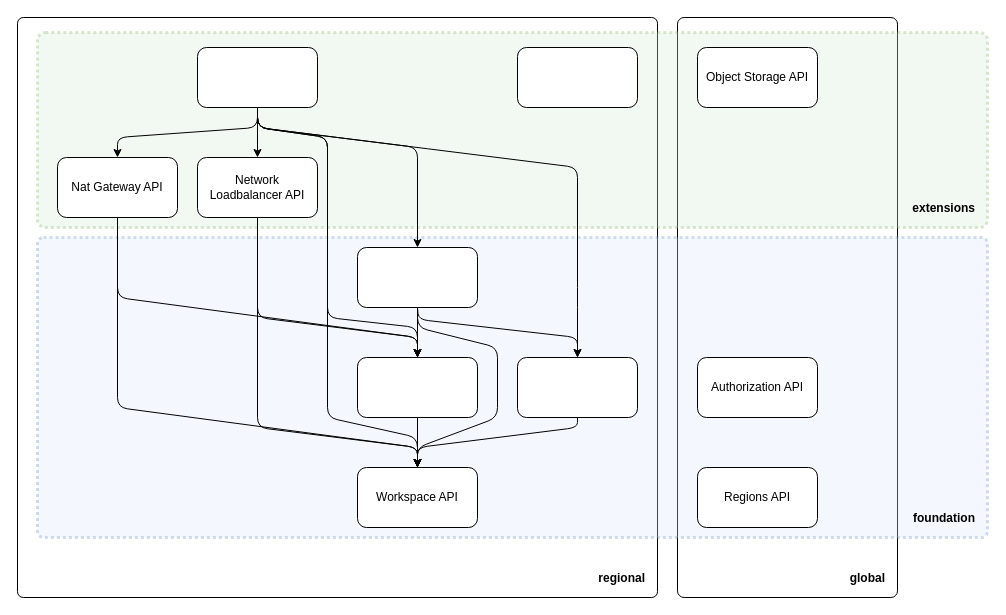
Image size: 1006x615. Some labels were removed from this diagram. Here are the shapes that lost their labels. From the top down, the centre of each, then its label:
At (x=257, y=77): "Kubernetes API".
At (x=577, y=77): "ActivityLog API".
At (x=417, y=277): "Compute API".
At (x=417, y=387): "Network API".
At (x=577, y=387): "Storage API".
